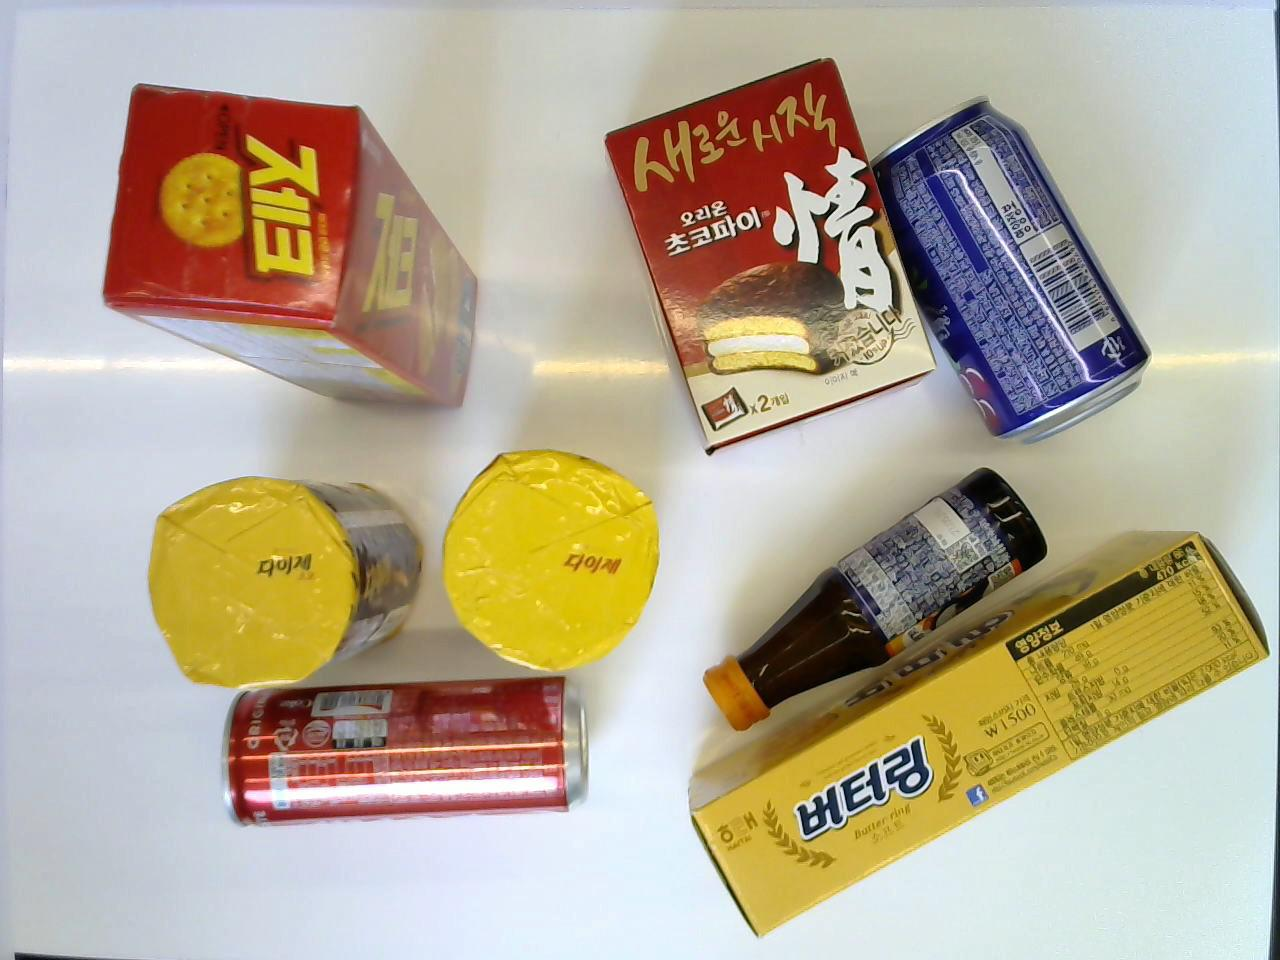buttering: (688, 524, 1268, 937)
chocopie: (606, 54, 935, 457)
coke: (218, 674, 589, 830)
diget_choco: (146, 476, 425, 693)
diget_ori: (441, 450, 661, 674)
vita500: (700, 465, 1047, 730)
welchs: (870, 95, 1153, 450)
zec: (104, 82, 480, 413)
